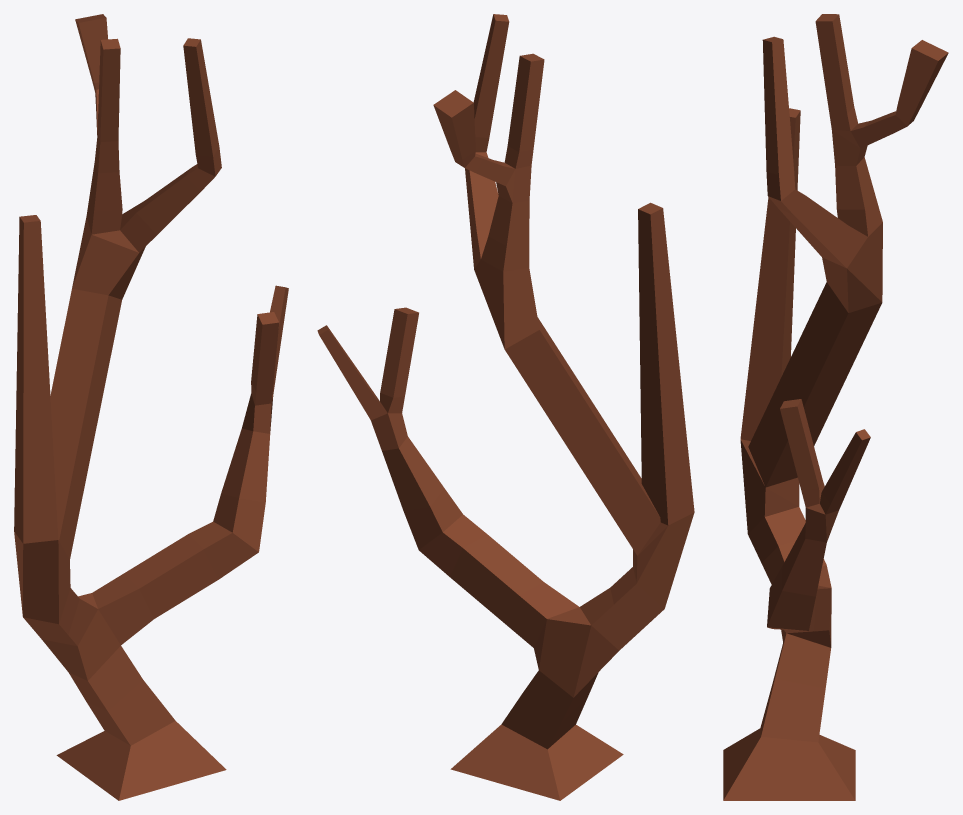
File: Baum2_Einzelobjekt.fbx
The picture shows the model from 3 angles, left to right: view 1: azimuth 30°, elevation 25°; view 2: azimuth 150°, elevation 25°; view 3: azimuth 270°, elevation 25°; orthographic projection. The views are drawn at different scales.
Visible parts, largest first — view 1: Baum; view 2: Baum; view 3: Baum.
Part boxes in pixels (x1,y1,x2,y2): Baum: (14, 14, 288, 800); Baum: (317, 14, 694, 800); Baum: (723, 14, 948, 800).
Bounding box in the file's own units: 151 × 327 × 87.74.
